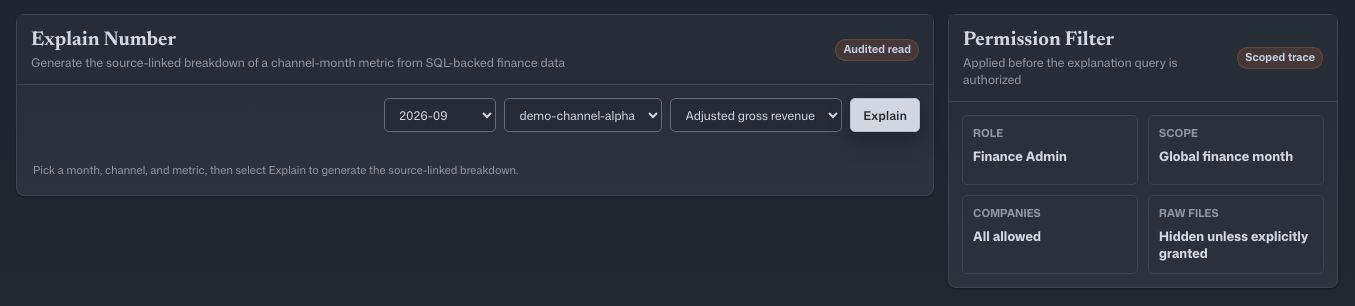
Test: TraceView wired to the explain endpoint › shows the loading state while the explanation POST is in flight
The width and height of the screenshot is (1355, 306).
Step 1. Click the button "Explain" → click(885, 115), box top-left (850, 98), bottom-right (920, 132)
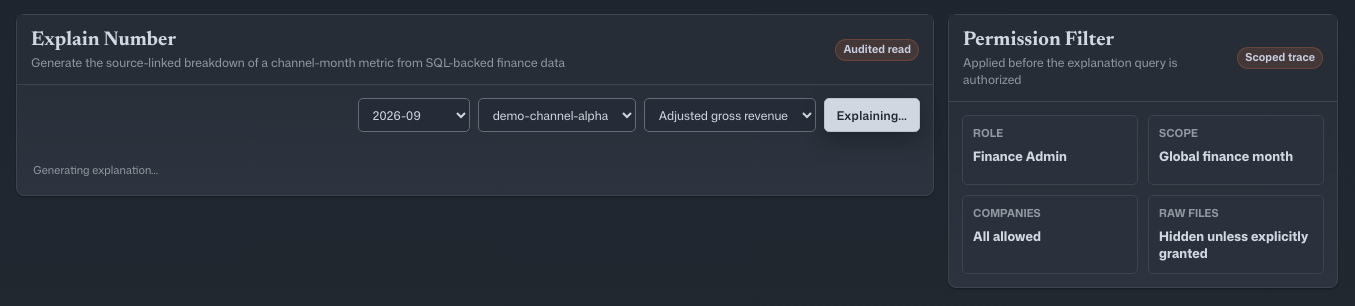
Result: the text "Generating explanation…" is shown at top-left (33, 162), bottom-right (158, 178)
